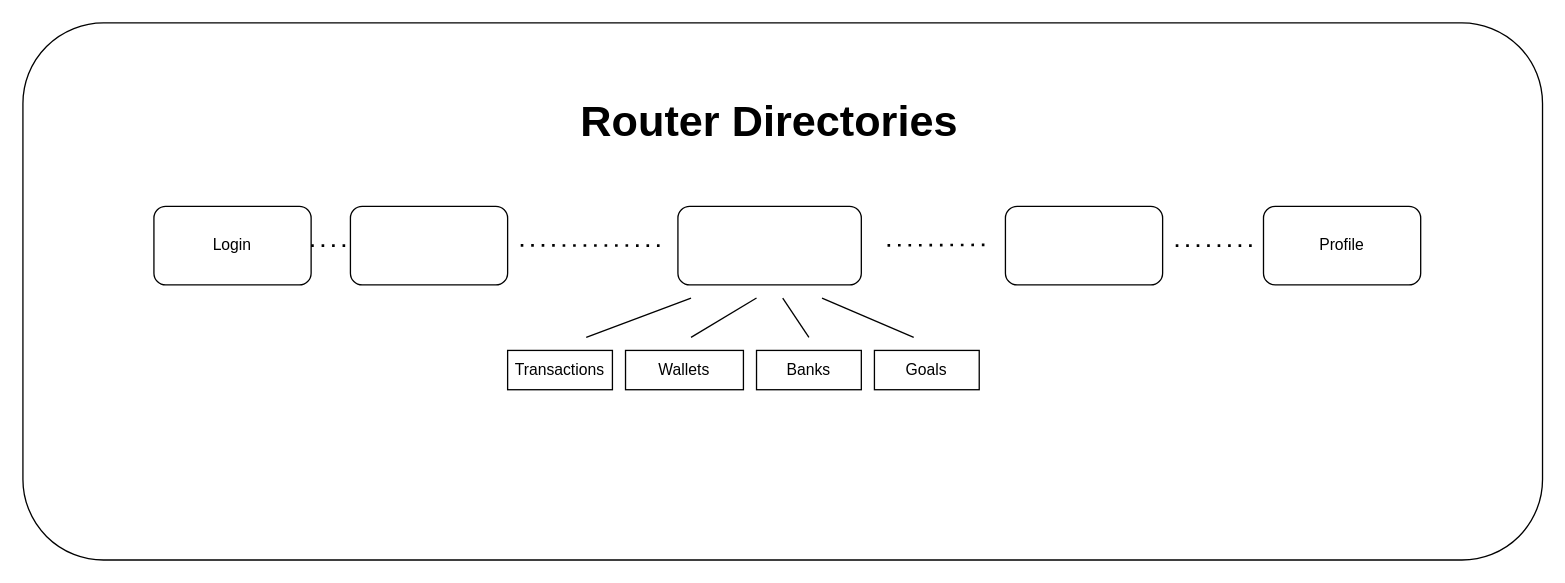
This 1565x583 diagram has some shape labels left out. The shapes that lost their labels are listed below. From the top down, each one's box as (x1, y1, x2, y2) in pixels, then its label:
(349, 205, 508, 285): Register
(677, 205, 861, 285): Dashboard
(1004, 205, 1163, 285): Budgets
